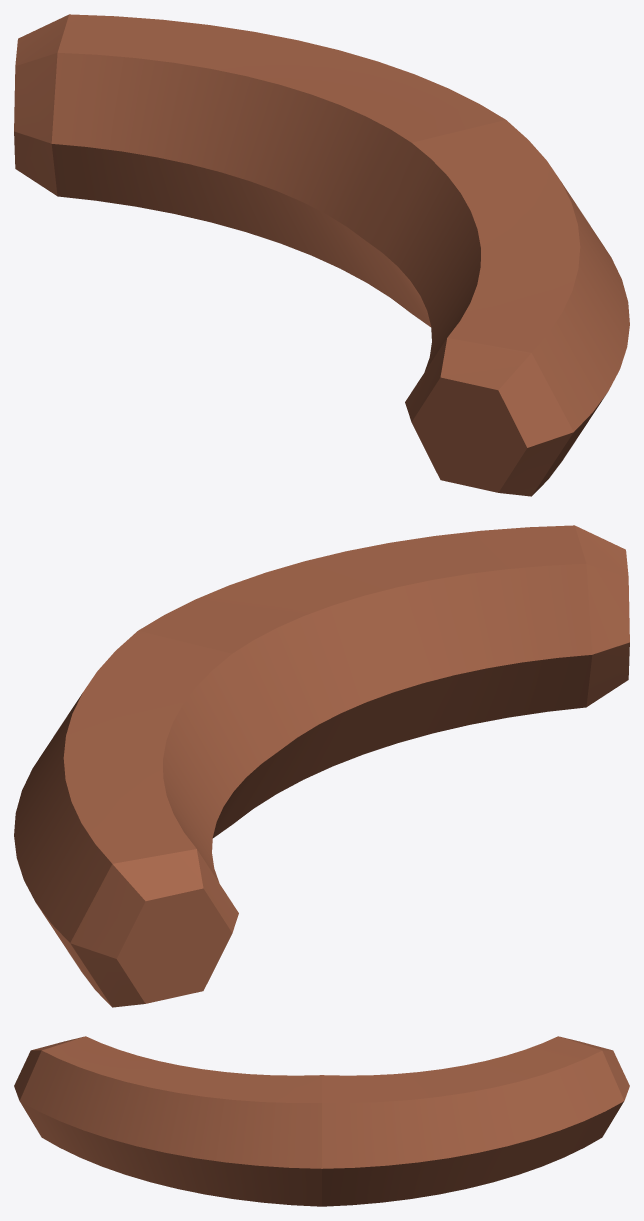
Rendered from meatSausage.fbx.
3 views of the same model, one above another, from view 1: azimuth 30°, elevation 25°; view 2: azimuth 150°, elevation 25°; view 3: azimuth 270°, elevation 25° (orthographic). The views are drawn at different scales.
Parts seen in each view (by area): view 1: meatSausage; view 2: meatSausage; view 3: meatSausage.
Part boxes in pixels (x1,y1,x2,y2): meatSausage: [14, 14, 629, 496]; meatSausage: [14, 525, 629, 1007]; meatSausage: [14, 1036, 629, 1206].
Bounding box in the file's own units: 1.52 × 0.7275 × 3.92.
